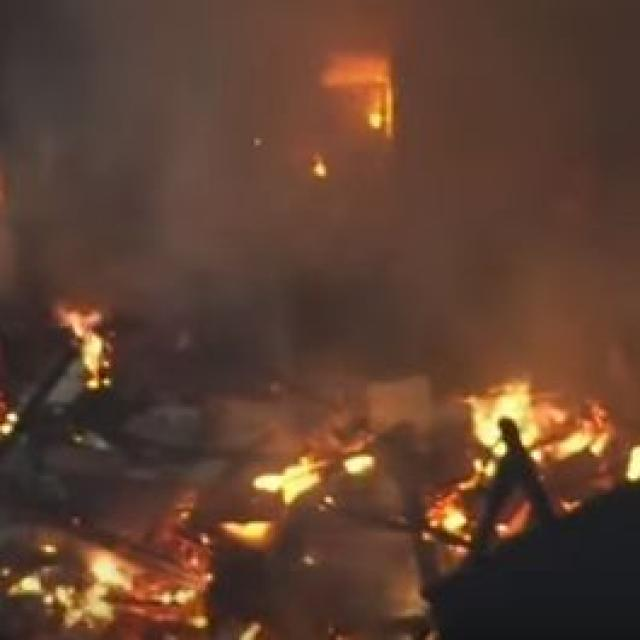Fire: (52, 443, 367, 609), (408, 364, 602, 507), (54, 276, 116, 377)
Smoke: (101, 46, 640, 364)
